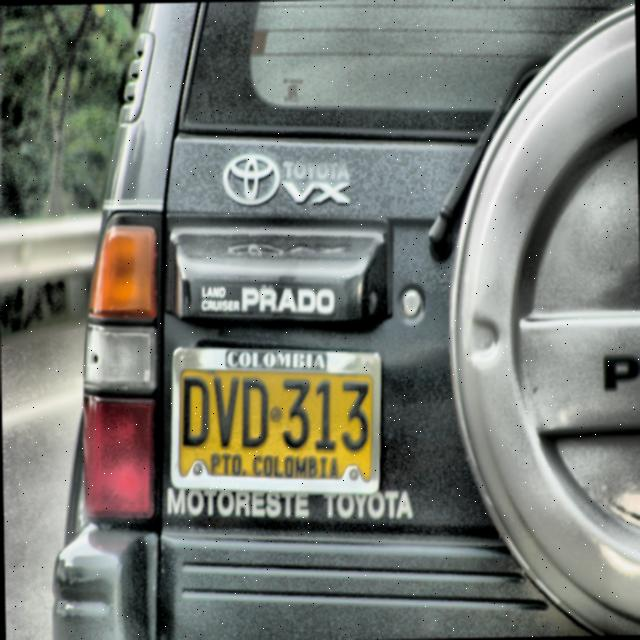plate: (170, 347, 381, 495)
